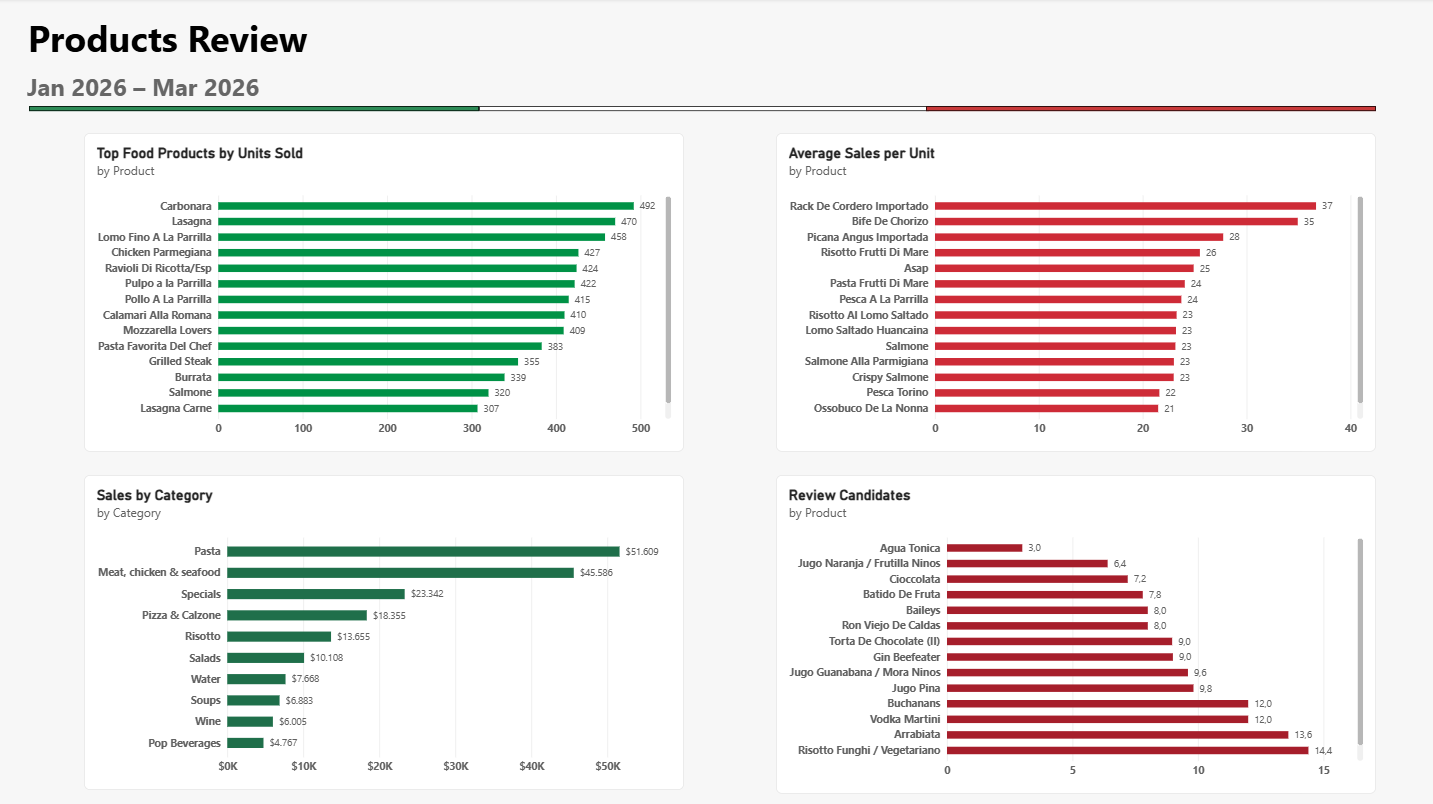

Layout of this report page (visuals, bound fields, positions):
{"tool":"powerbi","page":{"name":"Product Review","canvas":[1920,1080],"ordinal":4},"visuals":[{"type":"clusteredBarChart","fields":{"Category":["Products.Product"],"Y":["Calendar.Total Product Quantity"]},"box":[114.3,180,800,425],"z":0},{"type":"clusteredBarChart","fields":{"Category":["Products.Product"],"Y":["Calendar.Average Sales per Unit"]},"box":[1037.1,180,800,425],"z":1000},{"type":"clusteredBarChart","fields":{"Category":["Products.Product"],"Y":["Calendar.Total Product Sales"]},"box":[1037.1,635.7,800,425],"z":2000},{"type":"textbox","box":[40,20,827.7,150.2],"z":3000},{"type":"textbox","box":[39.3,95.6,650.2,68.3],"z":4000},{"type":"shape","box":[40.7,143.8,600,6.8],"z":5000},{"type":"shape","box":[641.4,143.8,600,6.8],"z":6000},{"type":"shape","box":[1237.1,143.8,600,6.8],"z":7000},{"type":"clusteredBarChart","fields":{"Category":["Products.Category"],"Y":["Calendar.Total Product Sales"]},"box":[114.3,635.7,800,420],"z":8000}]}

Visuals, with their boxes in screenshot pixels (x1, y1, x2, y2), scaled from the page's 1920x1080 canvas onto the 1433x804 screenshot:
clusteredBarChart - Products.Product x Calendar.Total Product Quantity: <region>85, 134, 682, 450</region>
clusteredBarChart - Products.Product x Calendar.Average Sales per Unit: <region>774, 134, 1371, 450</region>
clusteredBarChart - Products.Product x Calendar.Total Product Sales: <region>774, 473, 1371, 790</region>
textbox: <region>30, 15, 648, 127</region>
textbox: <region>29, 71, 515, 122</region>
shape: <region>30, 107, 478, 112</region>
shape: <region>479, 107, 927, 112</region>
shape: <region>923, 107, 1371, 112</region>
clusteredBarChart - Products.Category x Calendar.Total Product Sales: <region>85, 473, 682, 786</region>
